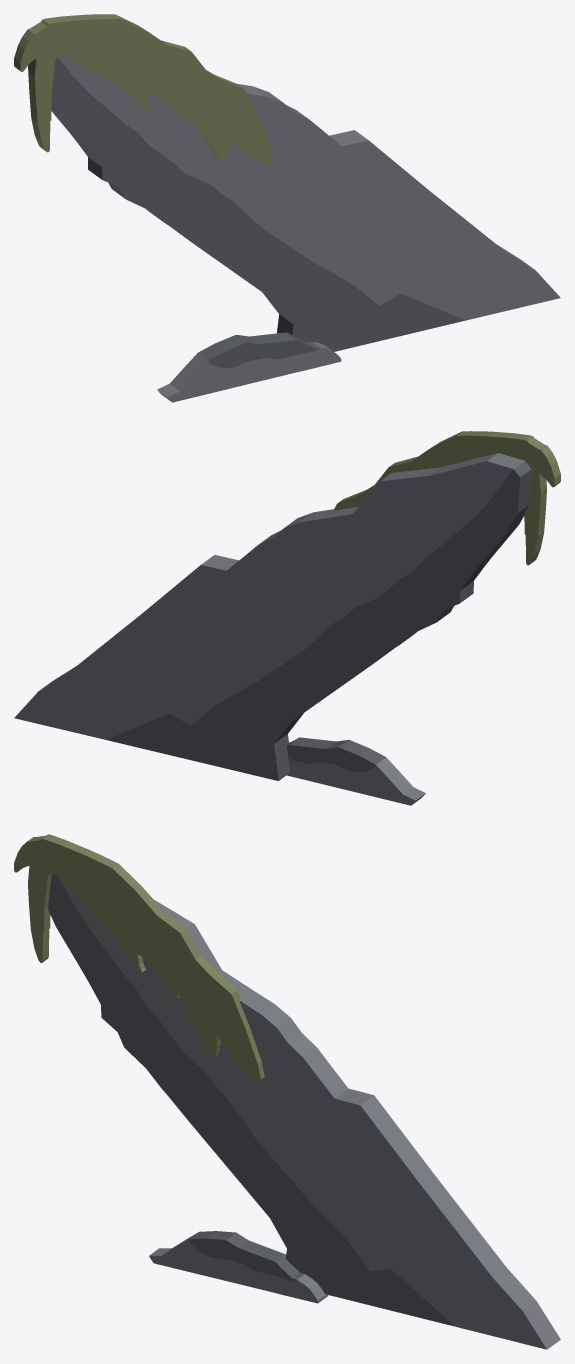
File: Rock_2.fbx
3 views of the same model, one above another, from view 1: azimuth 30°, elevation 25°; view 2: azimuth 150°, elevation 25°; view 3: azimuth 330°, elevation 25° (orthographic). The views are drawn at different scales.
Parts seen in each view (by area): view 1: pPlane63, pPlane65, pPlane64; view 2: pPlane63, pPlane65, pPlane64; view 3: pPlane63, pPlane65, pPlane64.
Boxes of the visible parts, bbox=[...] form: pPlane63: bbox=[28, 54, 560, 351]; pPlane65: bbox=[14, 14, 274, 166]; pPlane64: bbox=[157, 332, 341, 402]; pPlane63: bbox=[14, 453, 531, 780]; pPlane65: bbox=[333, 431, 560, 565]; pPlane64: bbox=[286, 737, 425, 805]; pPlane63: bbox=[48, 874, 560, 1349]; pPlane65: bbox=[14, 834, 264, 1081]; pPlane64: bbox=[149, 1231, 328, 1303].
Size of the model in its own units: 2.08 by 1.48 by 0.1483.
